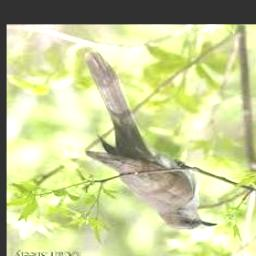Cuckoo: (85, 51, 217, 230)
